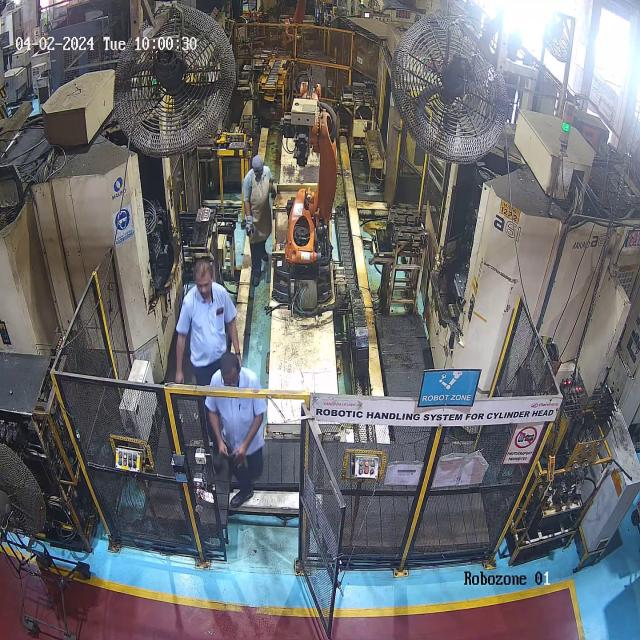person: (204, 350, 274, 508), (173, 255, 240, 353), (240, 153, 276, 287)
